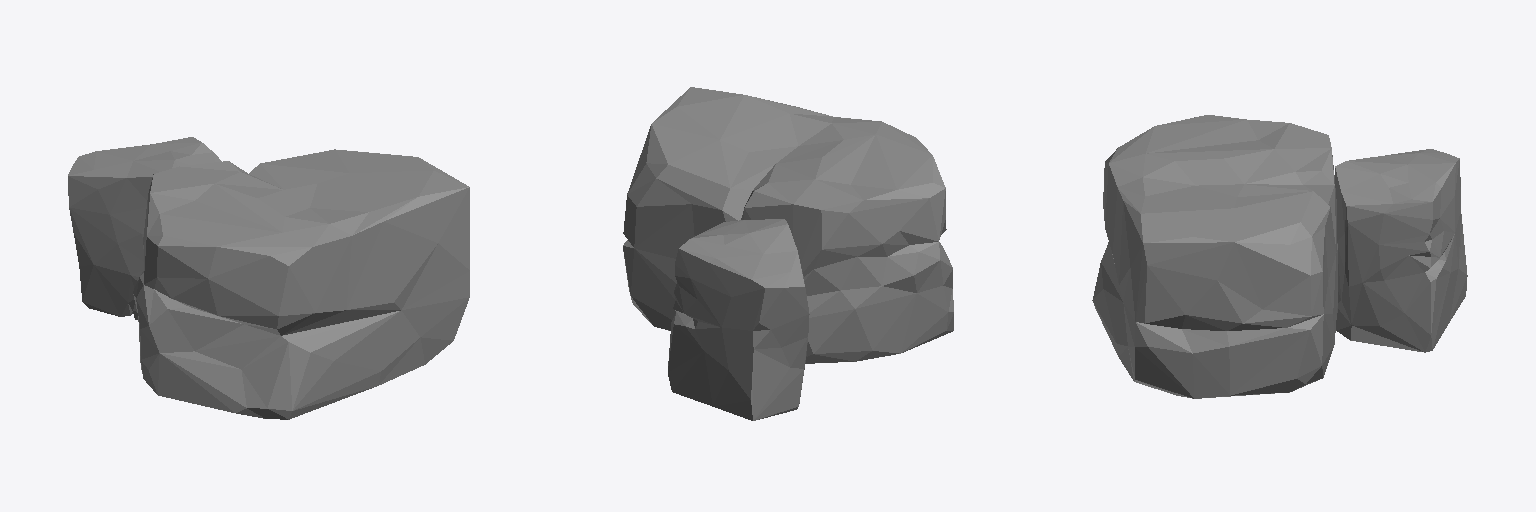
3 renders of one model, left to right at view 1: azimuth 30°, elevation 25°; view 2: azimuth 150°, elevation 25°; view 3: azimuth 270°, elevation 25°, orthographic.
Parts seen in each view (by area): view 1: rock6_003, rock7_003; view 2: rock6_003, rock7_003; view 3: rock6_003, rock7_003.
Part boxes in pixels (bbox=[...]): rock6_003: bbox=[133, 149, 469, 419]; rock7_003: bbox=[68, 137, 221, 319]; rock6_003: bbox=[623, 87, 953, 363]; rock7_003: bbox=[668, 219, 809, 420]; rock6_003: bbox=[1092, 115, 1337, 398]; rock7_003: bbox=[1335, 149, 1467, 352].
Size of the model in its own units: 1.47 by 0.8299 by 1.61.